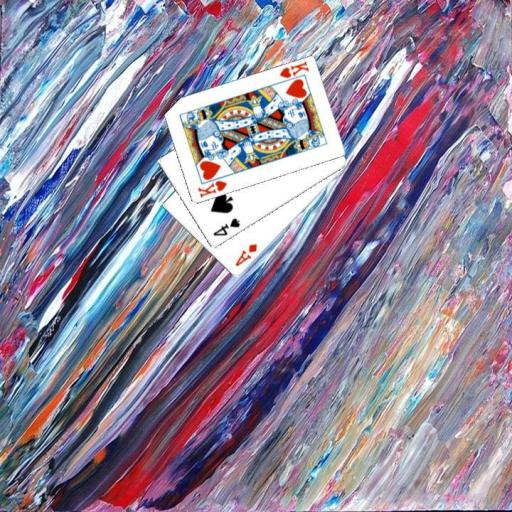4S: (210, 216, 241, 238)
AD: (232, 241, 259, 268)
KH: (194, 177, 228, 199), (276, 58, 310, 80)
